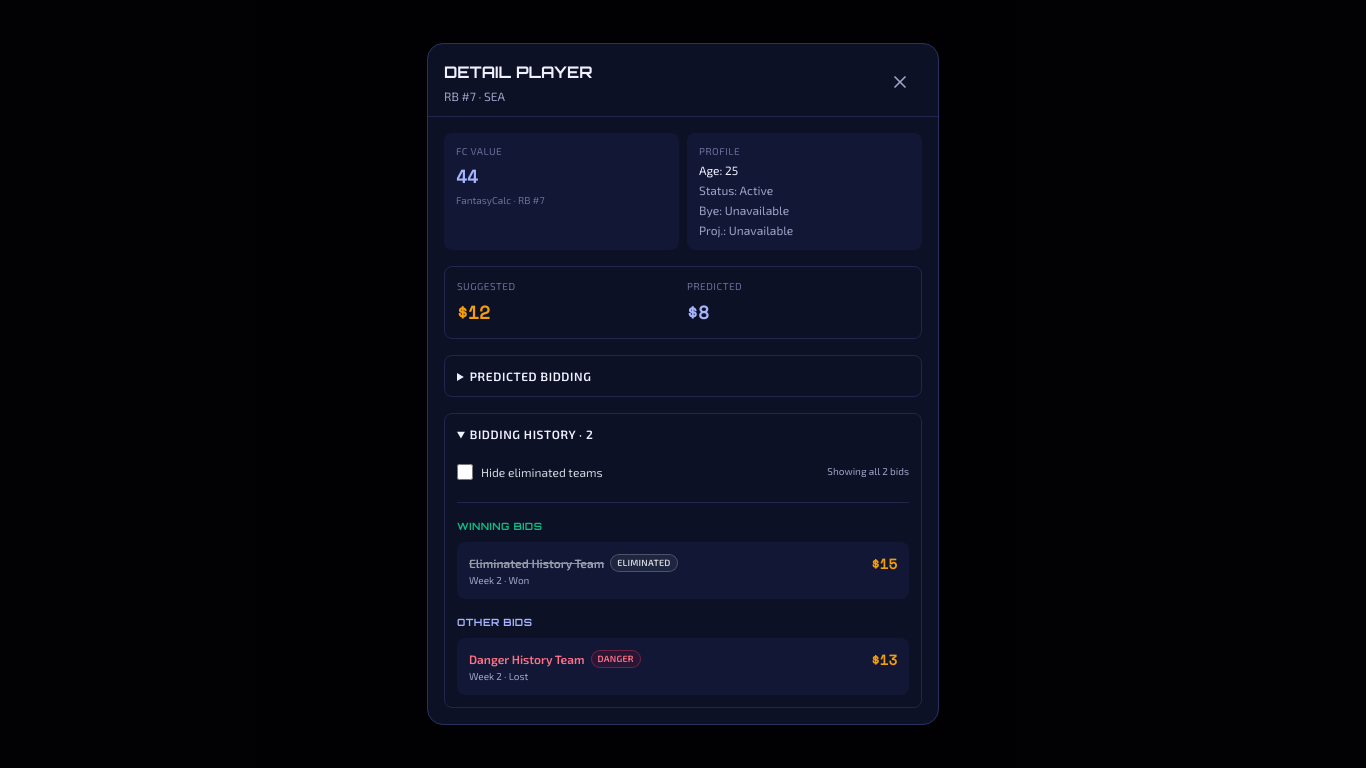
PlayerDetailDialog › shows complete history by default and filters only eliminated history without mutating source data or predictions
Expected: the text "Showing all 2 bids" is shown, [827,464,909,479]
Expected: the text "Eliminated History Team" is shown, [469,555,604,571]
Click the checkbox labelled "Hide eliminated teams" at (465, 472), box [457,464,473,480]
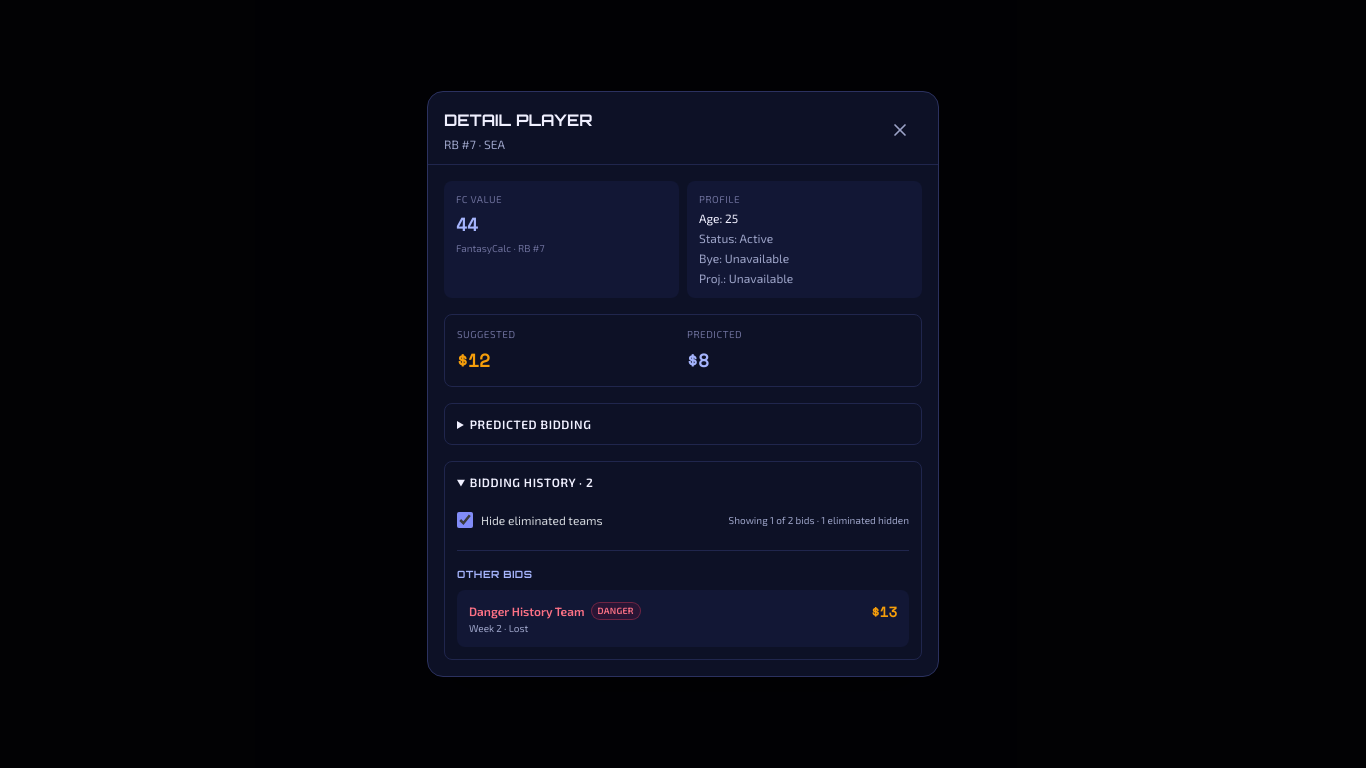
Now the checkbox labelled "Hide eliminated teams" is checked
Now the text "Eliminated History Team" is gone
Now the heading "Winning bids" is gone
Click the checkbox labelled "Hide eliminated teams" at (465, 520), box [457,512,473,528]
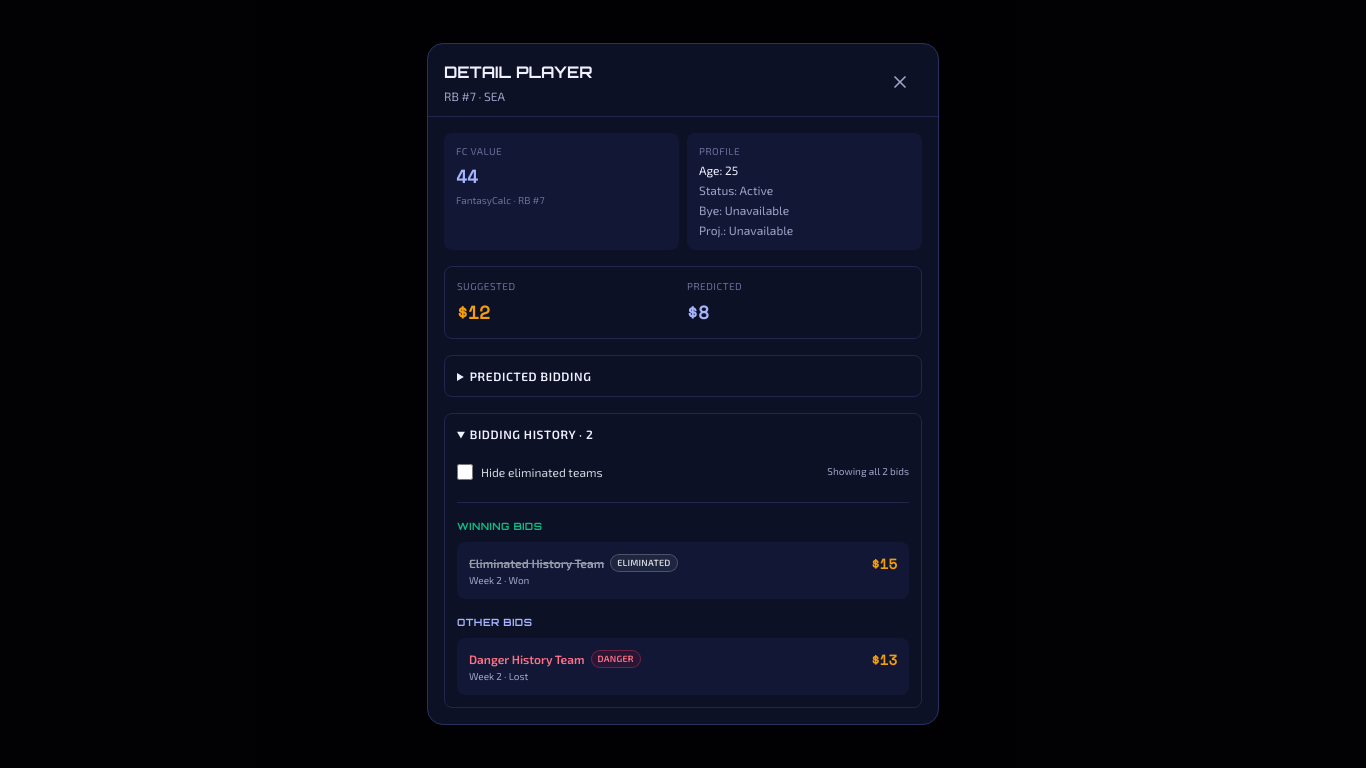
Now the checkbox labelled "Hide eliminated teams" is not checked, box [457,464,473,480]
Now the text "Eliminated History Team" is shown, box [469,555,604,571]
Now the text "Showing all 2 bids" is shown, box [827,464,909,479]
